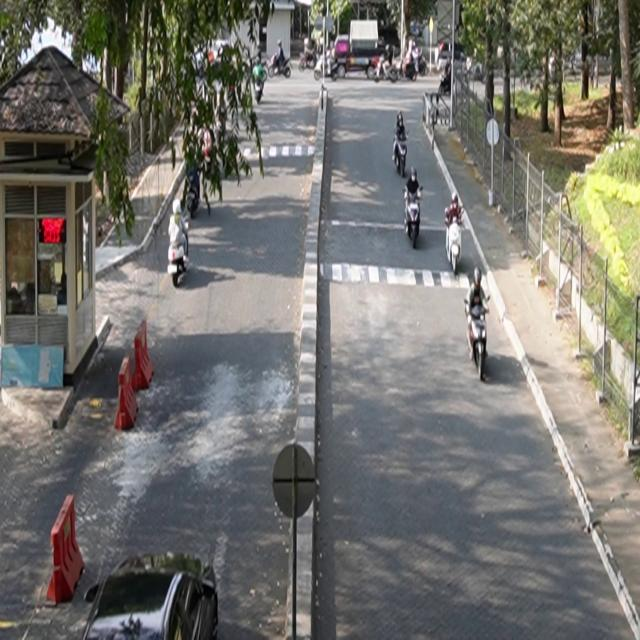car: (82, 551, 220, 640)
